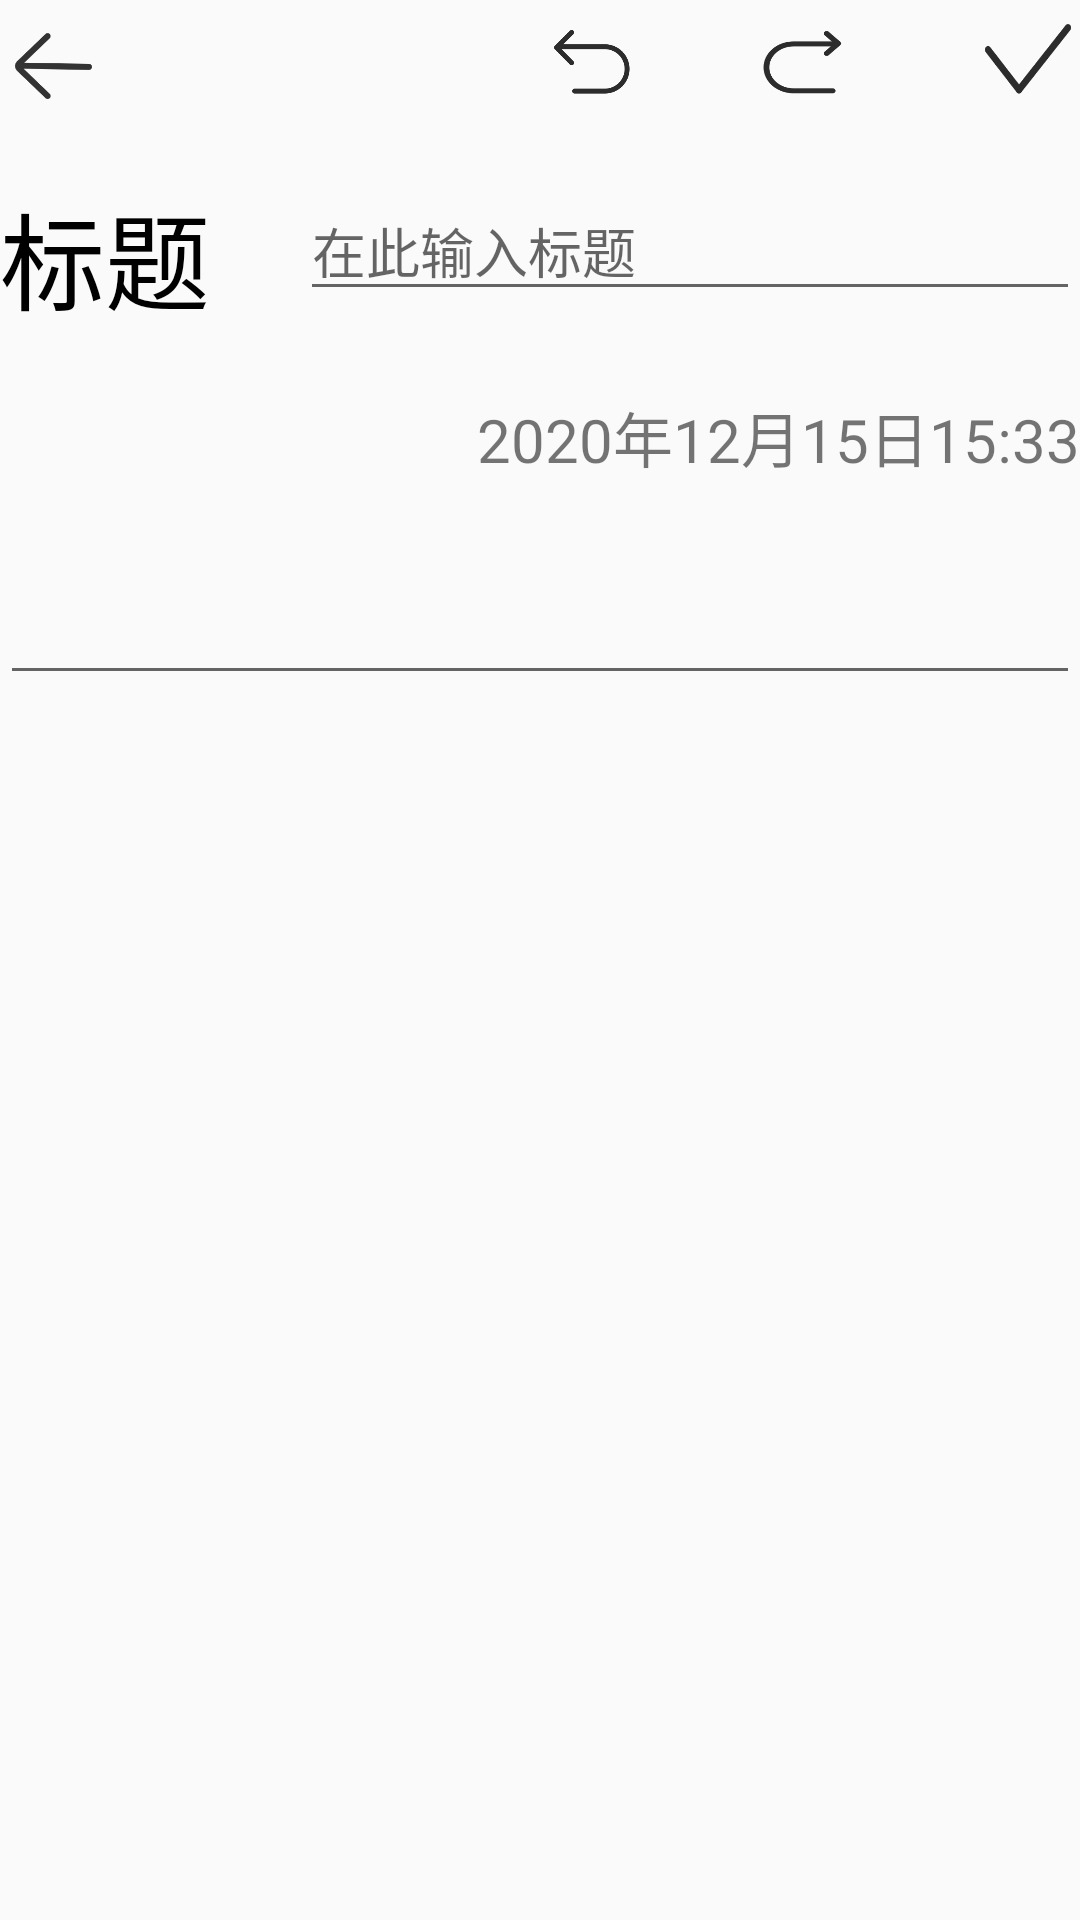

Where icons sit on this 1080px×1920px app screen, as region(x1, y1, x2, y2):
chexiao: region(554, 30, 630, 94)
gou: region(985, 24, 1071, 94)
huifu: region(763, 31, 841, 94)
to return: region(15, 33, 92, 99)
